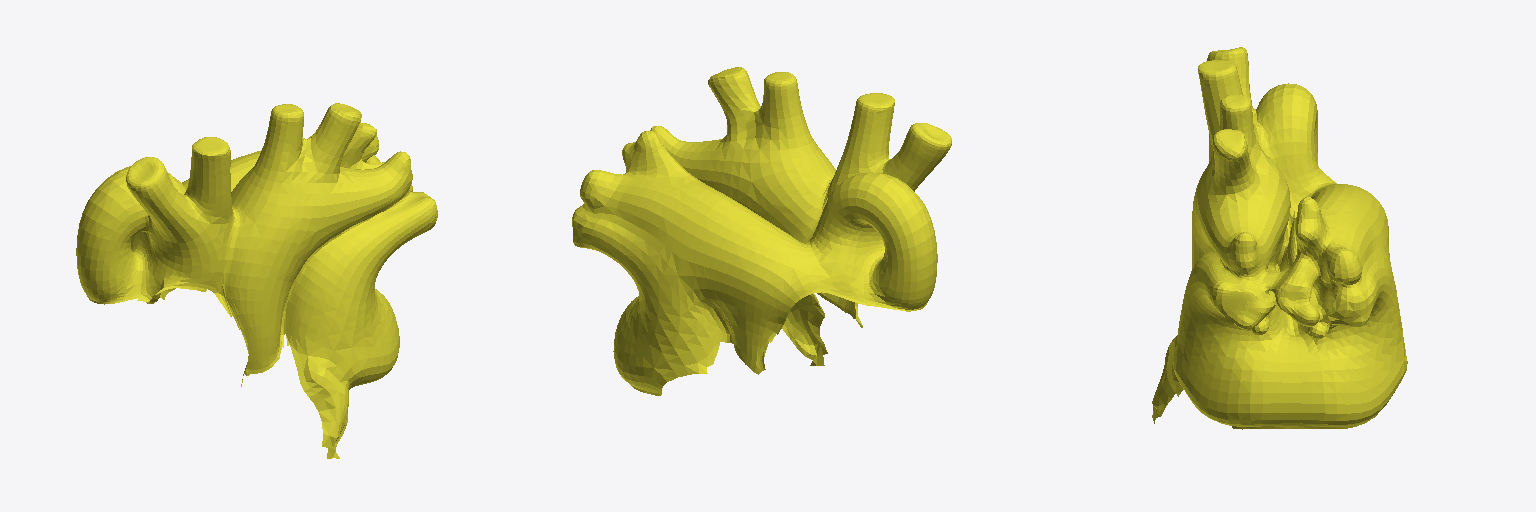
The picture shows the model from 3 angles: view 1: azimuth 30°, elevation 25°; view 2: azimuth 150°, elevation 25°; view 3: azimuth 270°, elevation 25°; orthographic projection.
Parts seen in each view (by area): view 1: base; view 2: base; view 3: base.
Part boxes in pixels (x1,y1,x2,y2): base: (76, 103, 437, 458); base: (572, 67, 951, 395); base: (1152, 47, 1407, 429).
Size of the model in its own units: 1.06 by 0.9574 by 0.6853.
Materials: 1 (1 with a texture image).